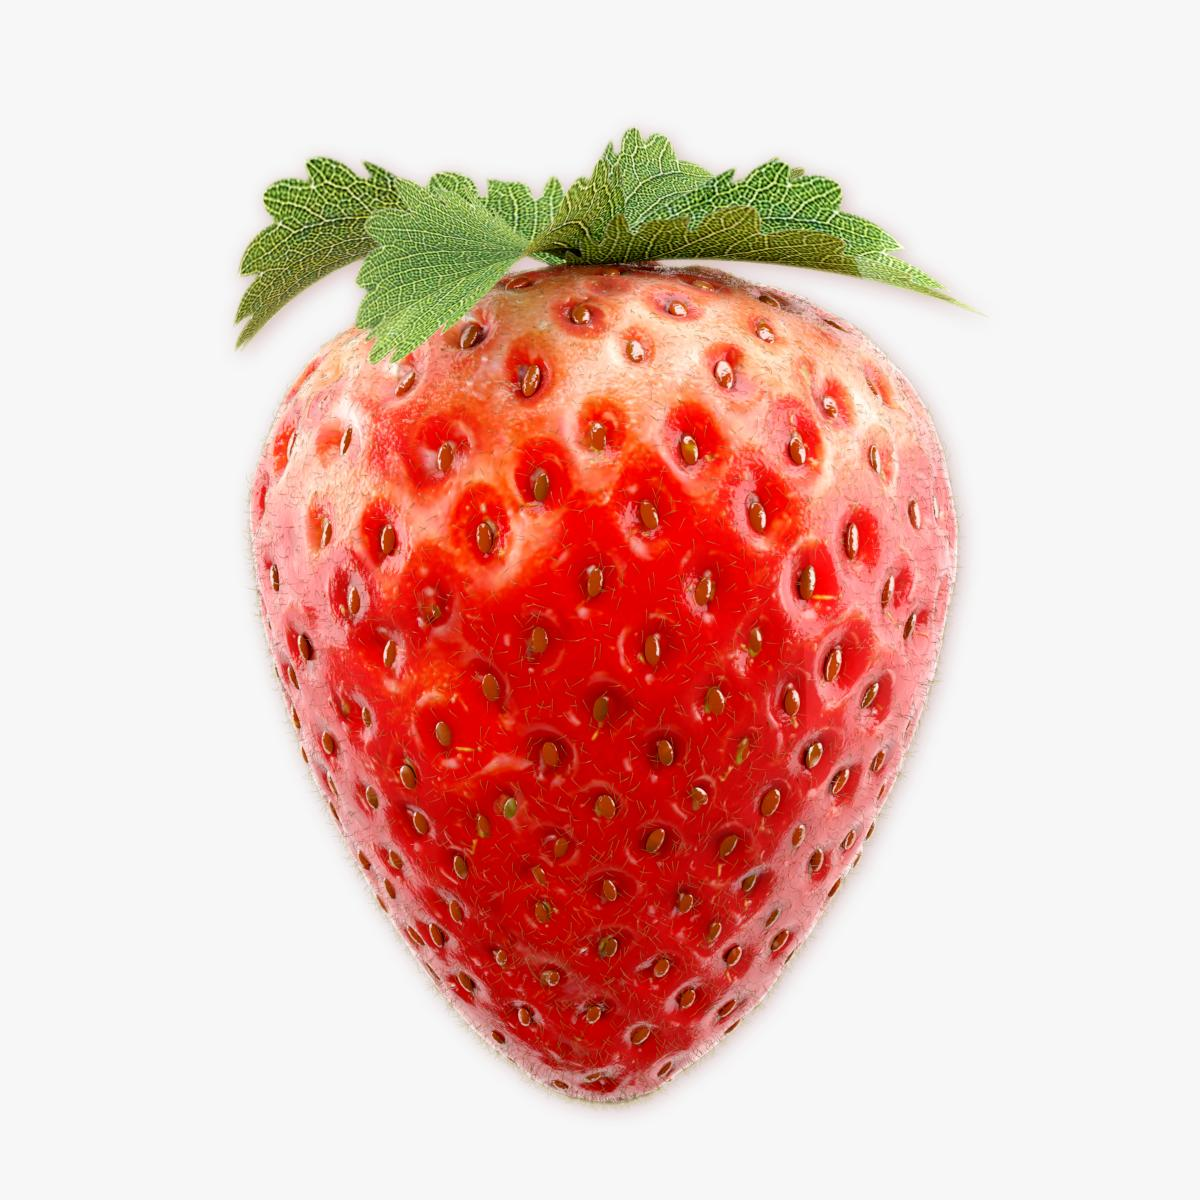strawberry: (202, 100, 1015, 1132)
